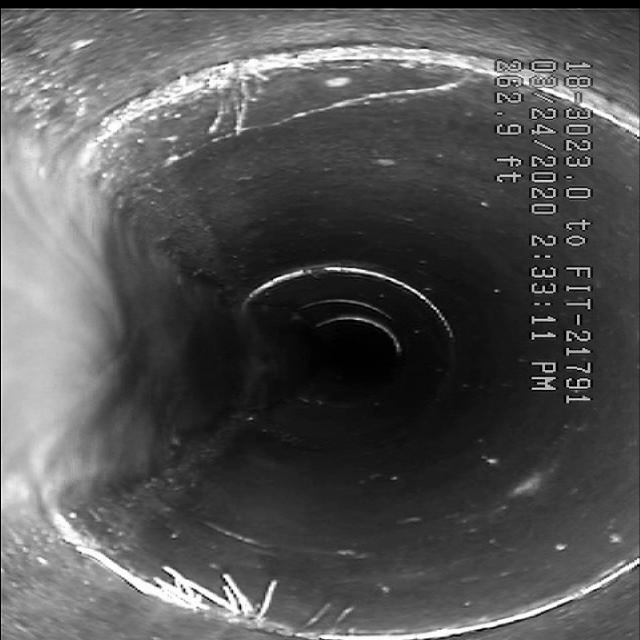Crack: (171, 74, 471, 178)
